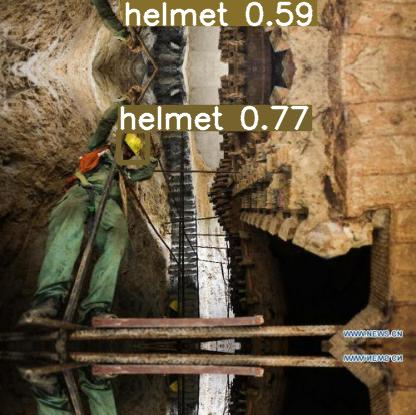helmet: (118, 130, 147, 162), (123, 0, 141, 7)
